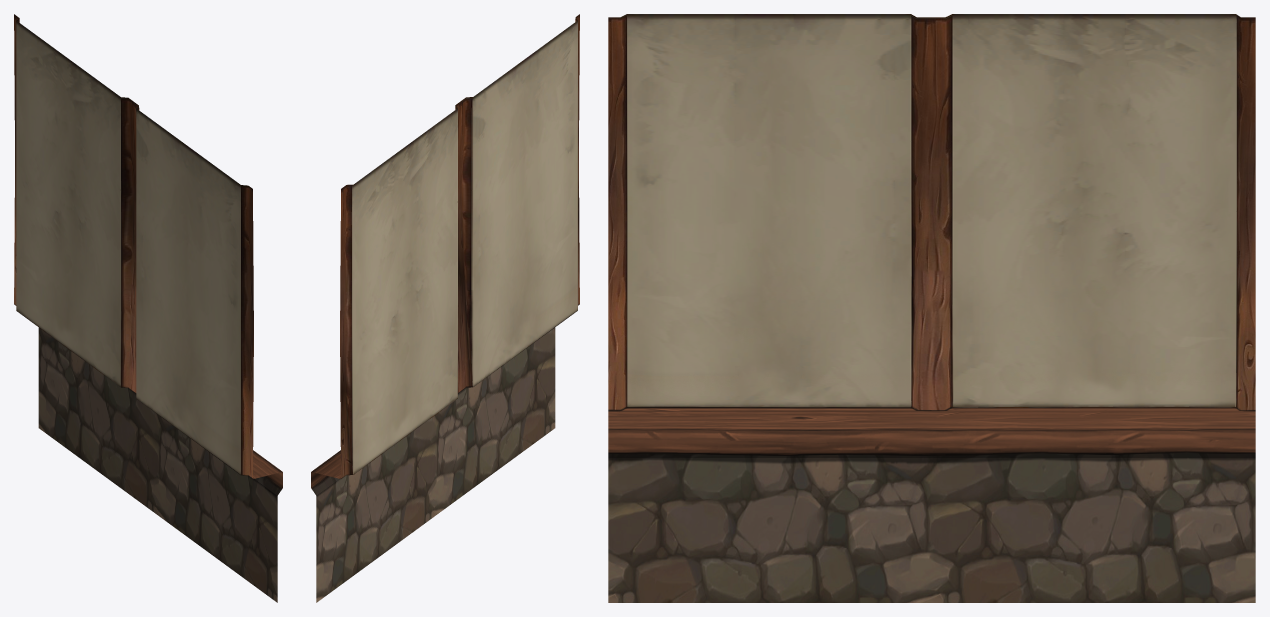
File: Wall_2.fbx
3 views of the same model, side by side, from view 1: azimuth 30°, elevation 25°; view 2: azimuth 150°, elevation 25°; view 3: azimuth 270°, elevation 25° (orthographic). The views are drawn at different scales.
Parts seen in each view (by area): view 1: pCube2; view 2: pCube2; view 3: pCube2.
Boxes of the visible parts, box(x1,y1,x2,y2) form: pCube2: box(14, 14, 282, 602); pCube2: box(311, 14, 579, 602); pCube2: box(608, 14, 1255, 602).
Size of the model in its own units: 0.8457 by 9.7 by 10.
